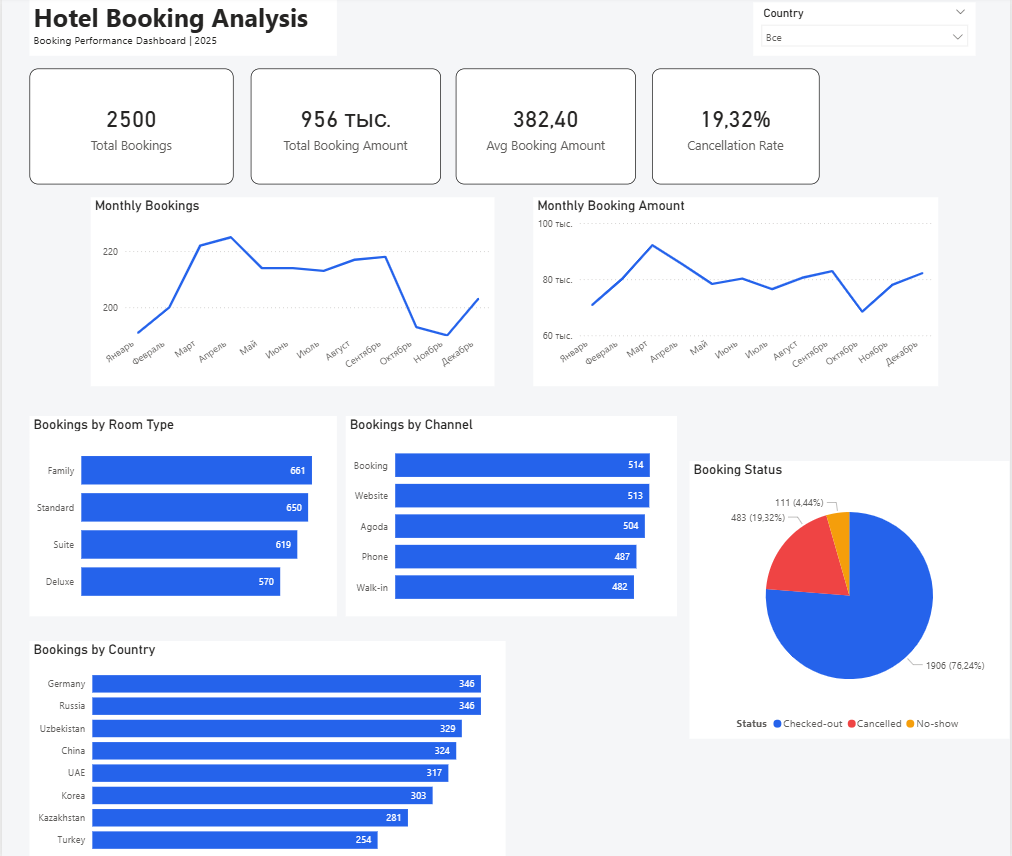

The page's visual inventory and layout, read from the dashboard file:
{"tool":"powerbi","page":{"name":"Страница 1","canvas":[1280,1100],"ordinal":0},"visuals":[{"type":"card","fields":{"Values":["Hotel_Booking_Analysis_Dataset.Total Bookings"]},"box":[35.7,91.9,259.3,146.8],"z":0},{"type":"card","fields":{"Values":["Hotel_Booking_Analysis_Dataset.TotalBookingsAmount"]},"box":[315.6,91.9,241.5,146.8],"z":1000},{"type":"card","fields":{"Values":["Hotel_Booking_Analysis_Dataset.AvgTotalAvgBookingAmount"]},"box":[576.3,91.9,229.2,146.8],"z":2000},{"type":"card","fields":{"Values":["Hotel_Booking_Analysis_Dataset.Cancellation Rate"]},"box":[826.1,91.9,212.7,146.8],"z":3000},{"type":"lineChart","title":"Monthly Bookings","fields":{"Category":["Hotel_Booking_Analysis_Dataset.BookingDate.Изменение.Иерархия дат.Год","Hotel_Booking_Analysis_Dataset.BookingDate.Изменение.Иерархия дат.Квартал","Hotel_Booking_Analysis_Dataset.BookingDate.Изменение.Иерархия дат.Месяц","Hotel_Booking_Analysis_Dataset.BookingDate.Изменение.Иерархия дат.День"],"Y":["Hotel_Booking_Analysis_Dataset.Total Bookings"]},"box":[112.7,255.6,512.8,239.8],"z":4000},{"type":"lineChart","title":"Monthly Booking Amount","fields":{"Y":["Hotel_Booking_Analysis_Dataset.Total Bookings Amount"],"Category":["Hotel_Booking_Analysis_Dataset.BookingDate.Изменение.Иерархия дат.Год","Hotel_Booking_Analysis_Dataset.BookingDate.Изменение.Иерархия дат.Квартал","Hotel_Booking_Analysis_Dataset.BookingDate.Изменение.Иерархия дат.Месяц","Hotel_Booking_Analysis_Dataset.BookingDate.Изменение.Иерархия дат.День"]},"box":[674.8,255.6,514.4,239.8],"z":5000},{"type":"clusteredBarChart","title":"Bookings by Room Type","fields":{"Category":["Hotel_Booking_Analysis_Dataset.RoomType"],"Y":["Hotel_Booking_Analysis_Dataset.Total Bookings"]},"box":[34.9,533.5,390.6,254],"z":6000},{"type":"barChart","title":"Bookings by Channel","fields":{"Category":["Hotel_Booking_Analysis_Dataset.Channel"],"Y":["Hotel_Booking_Analysis_Dataset.Total Bookings"]},"box":[436.6,533.5,420.8,254],"z":7000},{"type":"pieChart","title":"Booking Status","fields":{"Category":["Hotel_Booking_Analysis_Dataset.Status"],"Y":["Hotel_Booking_Analysis_Dataset.Total Bookings"]},"box":[873.3,590.6,406.5,352.5],"z":8000},{"type":"barChart","title":"Bookings by Country","fields":{"Category":["Hotel_Booking_Analysis_Dataset.Country"],"Y":["Hotel_Booking_Analysis_Dataset.Total Bookings"]},"box":[34.9,819.3,604.9,281],"z":10000},{"type":"textbox","box":[34.9,0,390.6,76.2],"z":11000},{"type":"slicer","fields":{"Values":["Hotel_Booking_Analysis_Dataset.Country"]},"box":[954.2,7.9,282.6,68.3],"z":11001}]}

Visuals, with their boxes in screenshot pixels (x1, y1, x2, y2), scaled from the page's 1280x1100 canvas onto the 1012x856 screenshot:
card - Hotel_Booking_Analysis_Dataset.Total Bookings: (28,72,233,186)
card - Hotel_Booking_Analysis_Dataset.TotalBookingsAmount: (250,72,440,186)
card - Hotel_Booking_Analysis_Dataset.AvgTotalAvgBookingAmount: (456,72,637,186)
card - Hotel_Booking_Analysis_Dataset.Cancellation Rate: (653,72,821,186)
"Monthly Bookings" lineChart: (89,199,495,386)
"Monthly Booking Amount" lineChart: (534,199,940,386)
"Bookings by Room Type" clusteredBarChart: (28,415,336,613)
"Bookings by Channel" barChart: (345,415,678,613)
"Booking Status" pieChart: (690,460,1011,734)
"Bookings by Country" barChart: (28,638,506,855)
textbox: (28,0,336,59)
slicer - Hotel_Booking_Analysis_Dataset.Country: (754,6,978,59)
